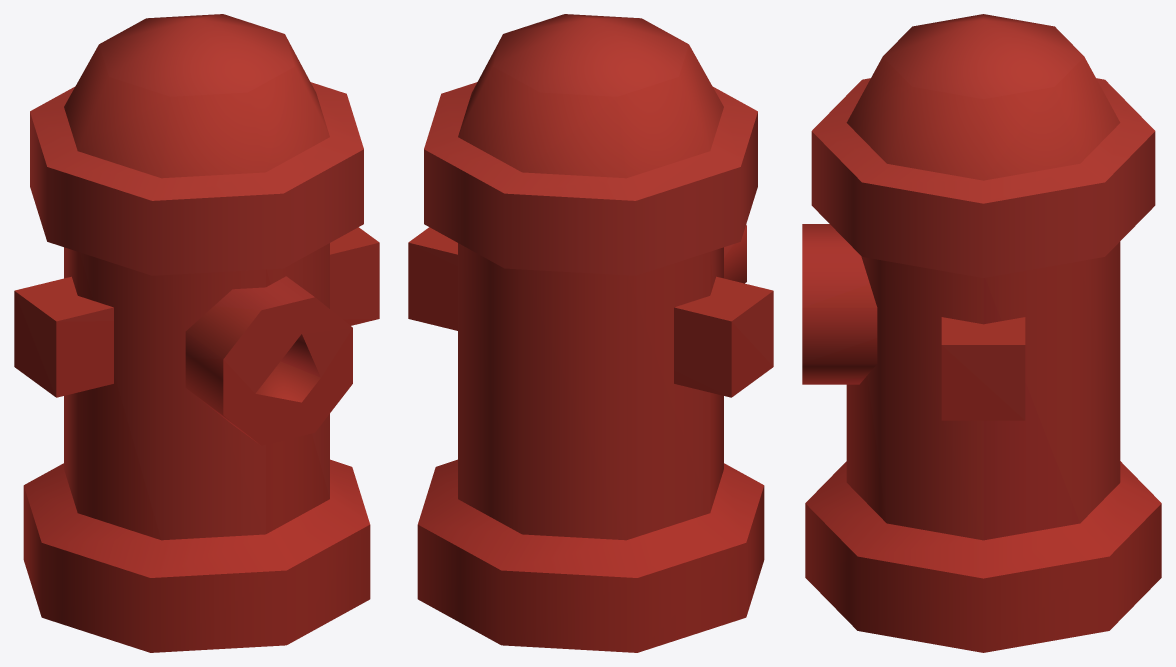
File: hydrant.low.fbf0fe50.glb
The picture shows the model from 3 angles, left to right: view 1: azimuth 30°, elevation 25°; view 2: azimuth 150°, elevation 25°; view 3: azimuth 270°, elevation 25°; orthographic projection.
Parts seen in each view (by area): view 1: hydrant; view 2: hydrant; view 3: hydrant.
Part boxes in pixels (x1=…): hydrant: x1=14, y1=14, x2=379, y2=652; hydrant: x1=408, y1=14, x2=773, y2=652; hydrant: x1=802, y1=14, x2=1161, y2=652.
Size of the model in its own units: 0.4525 by 0.75 by 0.4385.
